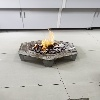fire: (34, 28, 58, 54)
